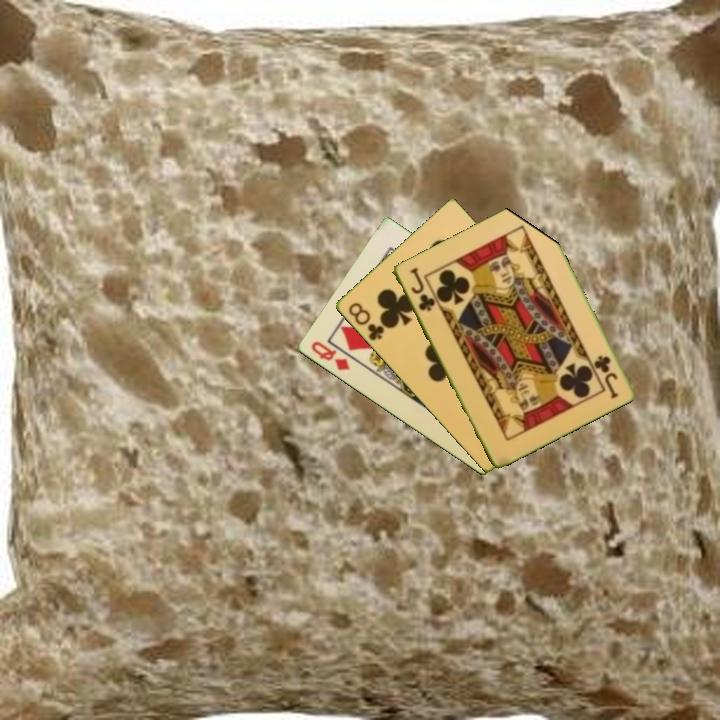8c: (344, 299, 387, 344)
Jc: (406, 264, 437, 314), (590, 351, 621, 401)
Qd: (307, 338, 353, 374)
